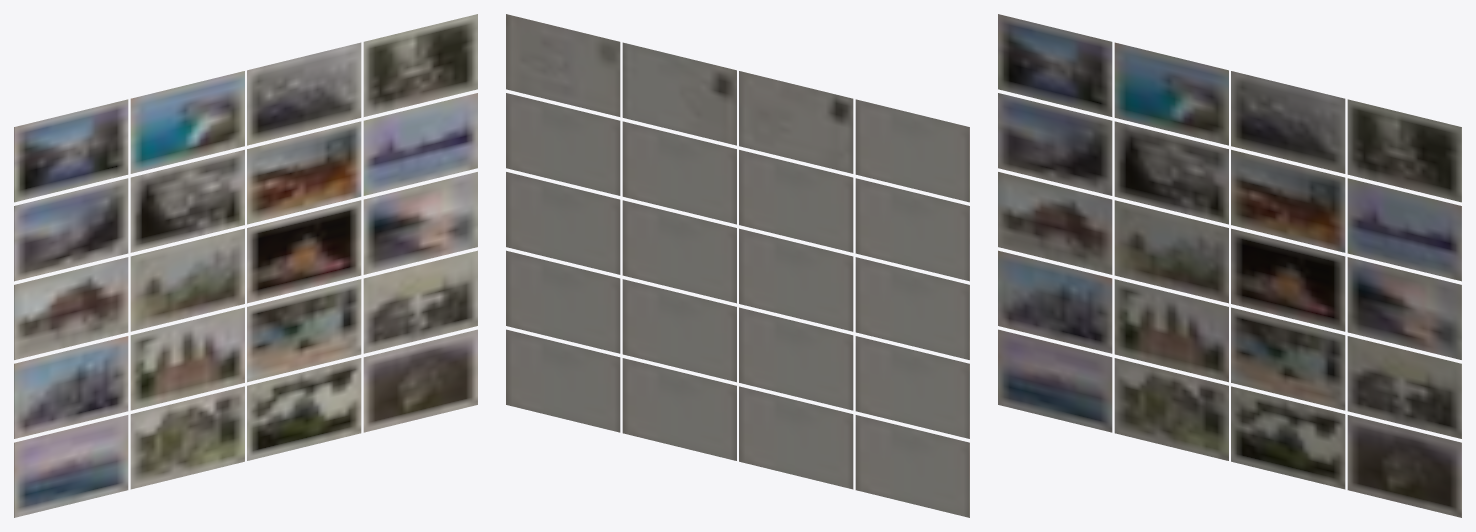
The model's file is relic-postcards.glb.
3 views of the same model, side by side, from view 1: azimuth 30°, elevation 25°; view 2: azimuth 150°, elevation 25°; view 3: azimuth 330°, elevation 25° (orthographic).
Visible parts, largest first — view 1: postcard_01; view 2: postcard_01; view 3: postcard_01.
Boxes of the visible parts, x1,y1,x2,y2 form: postcard_01: (14,14,477,517); postcard_01: (506,14,969,517); postcard_01: (998,14,1461,517).
Size of the model in its own units: 0.6767 by 0.545 by 0.000165.
1 material, 1 textured.
